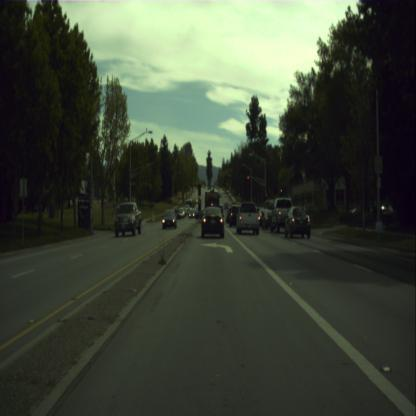Red: (198, 199, 200, 209), (247, 176, 249, 183), (280, 189, 282, 195), (265, 192, 266, 198)
off: (198, 184, 200, 194)
